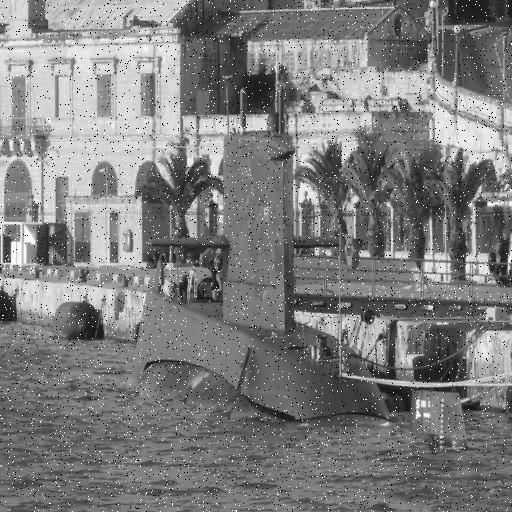submarine: (135, 53, 471, 448)
